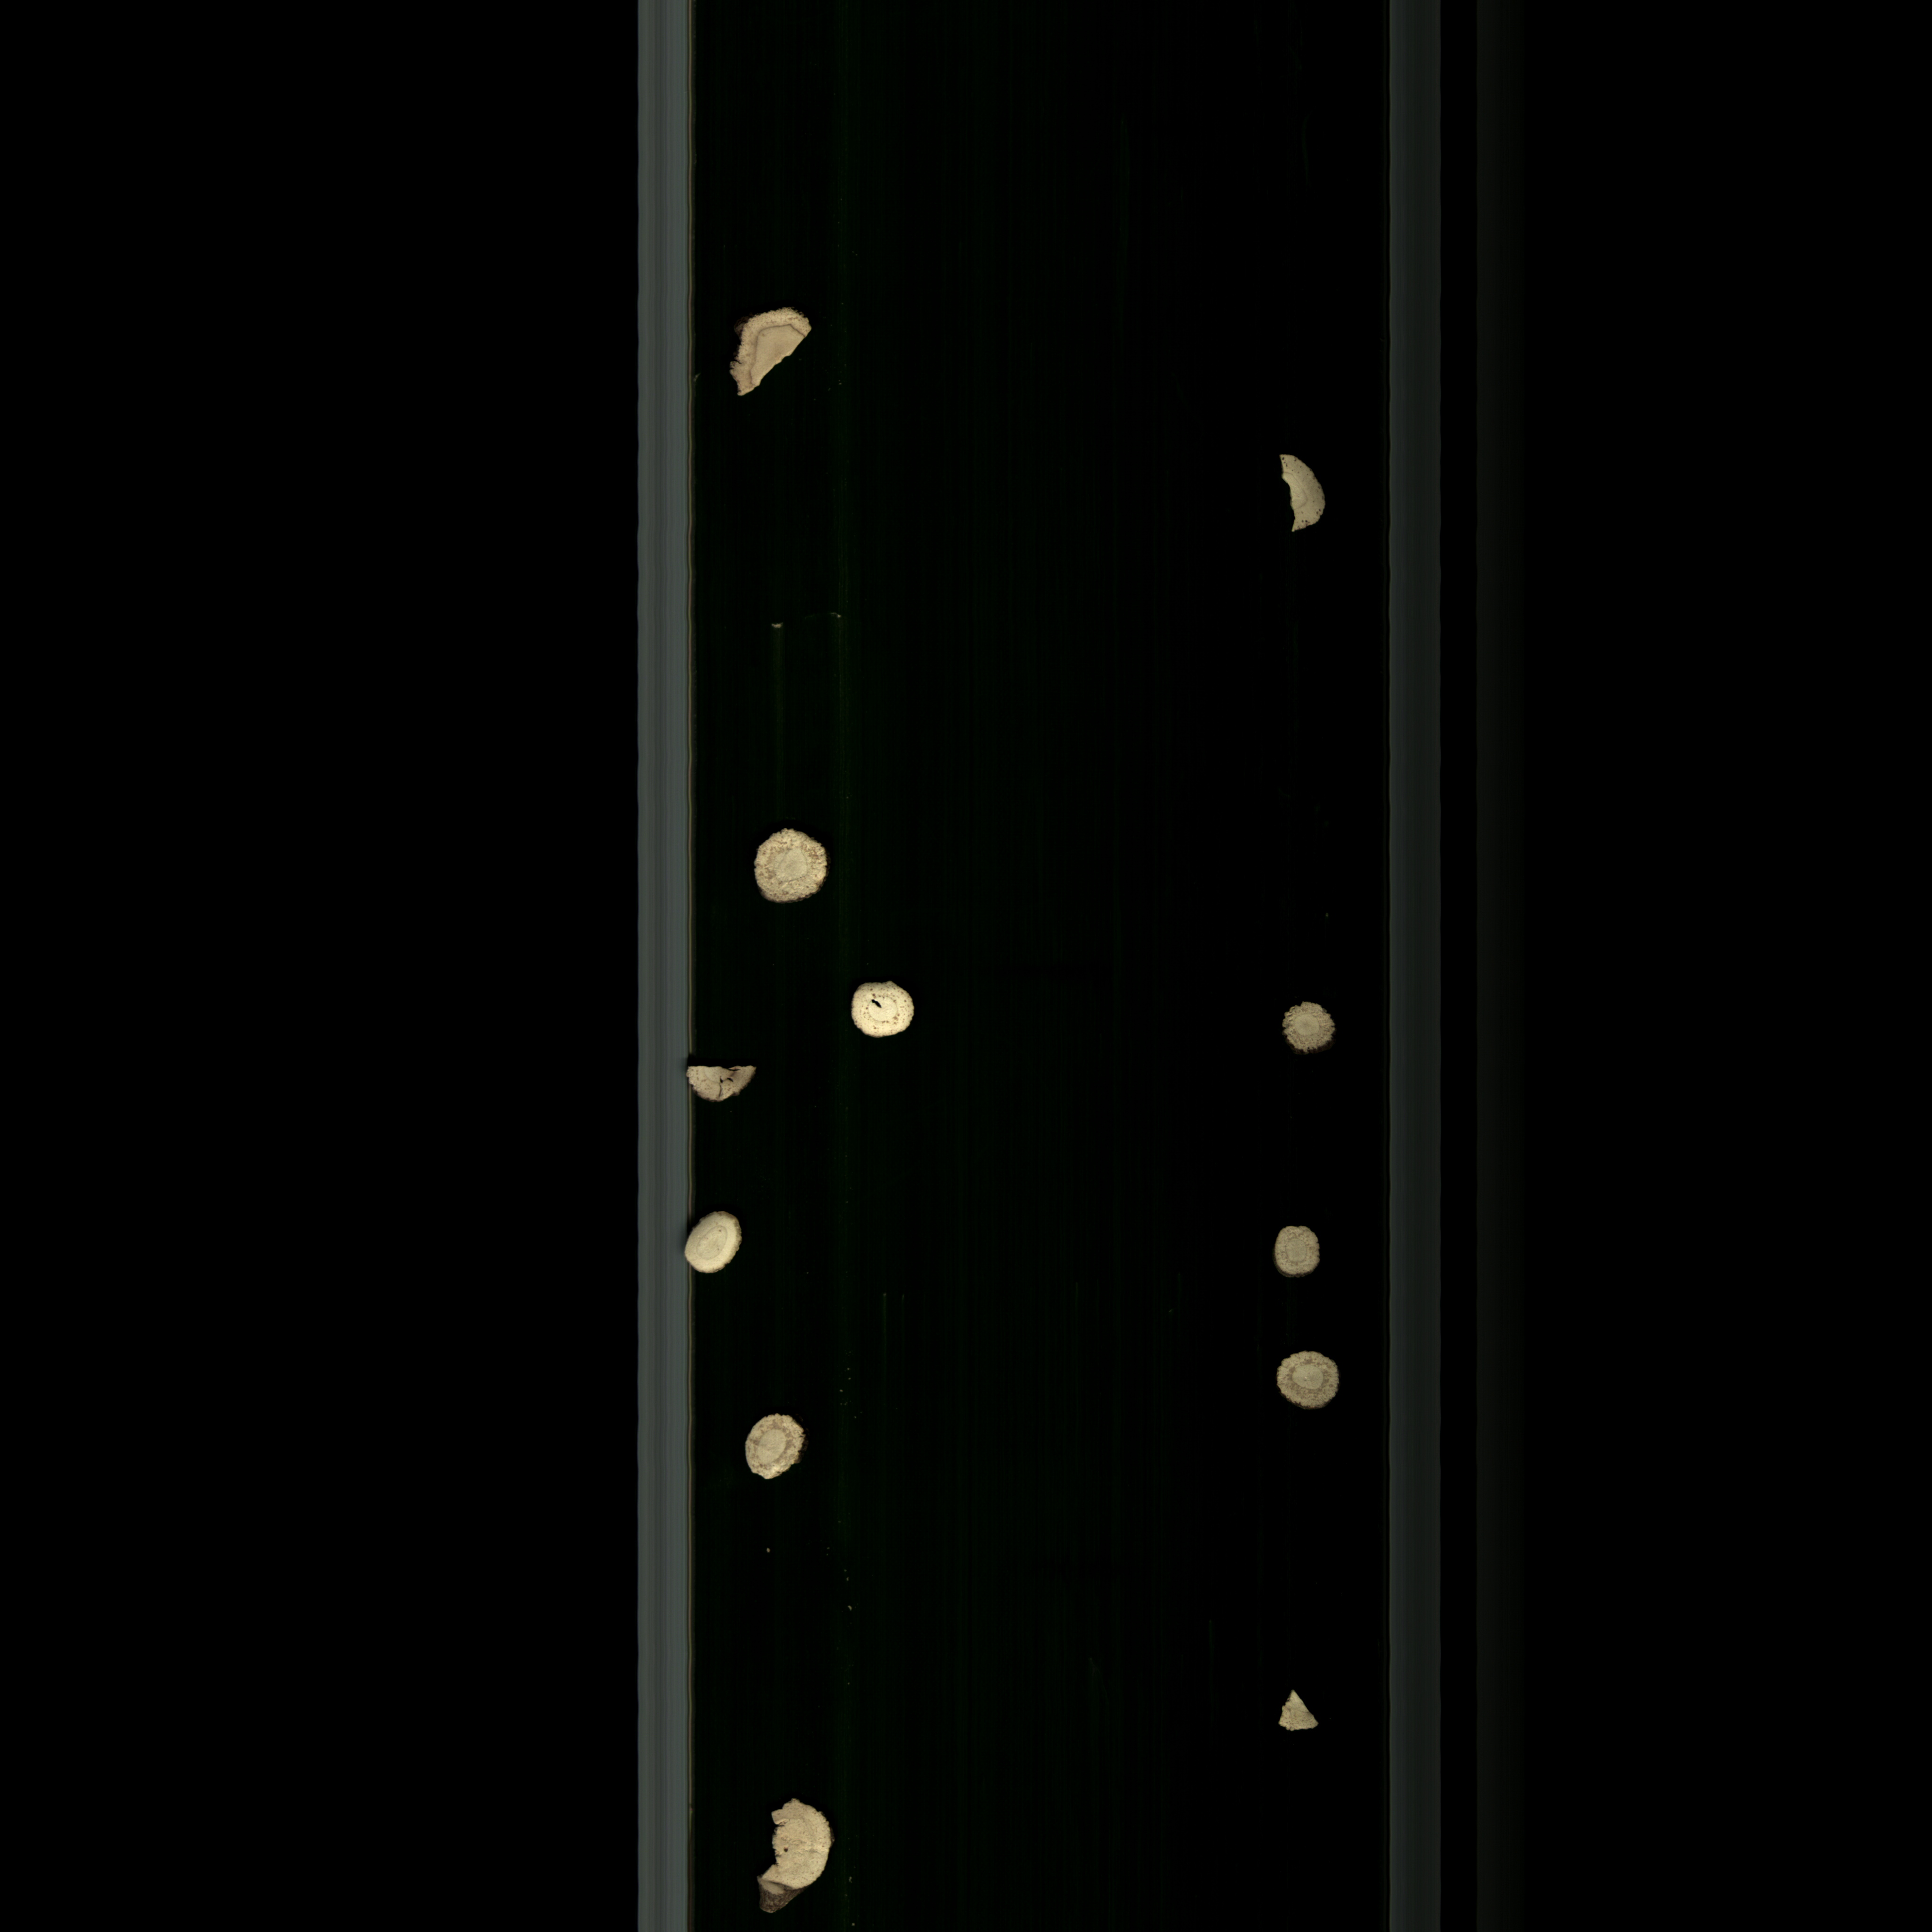debris: (750, 1787, 840, 1918), (720, 301, 826, 410), (741, 1407, 817, 1486)
distortion: (1276, 998, 1345, 1065)
dreg: (1274, 449, 1334, 545), (679, 1058, 768, 1111), (1270, 1686, 1325, 1744)
hole: (844, 977, 934, 1047)
moldy: (1270, 1346, 1348, 1426)
